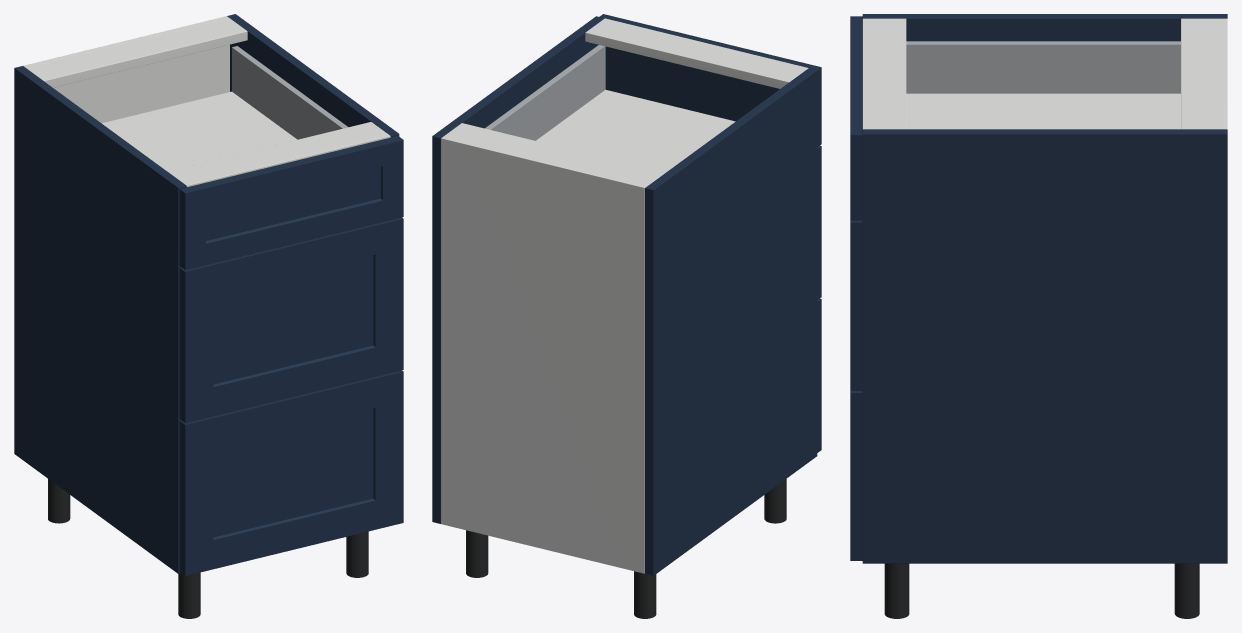
Rendered from oppein-pb-bss-3db18.glb.
3 renders of one model, left to right at view 1: azimuth 30°, elevation 25°; view 2: azimuth 150°, elevation 25°; view 3: azimuth 270°, elevation 25°, orthographic. The views are drawn at different scales.
Visible parts, largest first — view 1: Cabinet side, Drawer front, Drawer front.001, Drawer front.002, Drawer floor.002, Cabinet back, Top support rail, Drawer side.005, Top support rail.001, Cabinet side.001, Adjustable foot.001, Adjustable foot.003 (+1 smaller); view 2: Cabinet back, Cabinet side, Drawer floor.002, Drawer front.002, Cabinet side.001, Top support rail.001, Drawer side.005, Top support rail, Adjustable foot, Adjustable foot.002, Adjustable foot.001, Drawer front (+1 smaller); view 3: Cabinet side.001, Drawer side.004, Drawer floor.002, Cabinet side, Top support rail.001, Top support rail, Drawer front.002, Drawer front.001, Drawer front, Adjustable foot.002, Adjustable foot.003, Cabinet back.
Boxes of the visible parts, <box> form: Cabinet side: <box>14,66,186,573</box>; Drawer front: <box>179,370,403,575</box>; Drawer front.001: <box>179,217,403,423</box>; Drawer front.002: <box>179,136,403,270</box>; Drawer floor.002: <box>102,91,297,171</box>; Cabinet back: <box>23,16,229,123</box>; Top support rail: <box>25,18,247,87</box>; Drawer side.005: <box>232,46,348,139</box>; Top support rail.001: <box>167,122,390,187</box>; Cabinet side.001: <box>227,14,399,137</box>; Adjustable foot.001: <box>178,572,200,618</box>; Adjustable foot.003: <box>346,531,368,577</box>; Cabinet back: <box>441,136,647,573</box>; Cabinet side: <box>645,68,817,575</box>; Drawer floor.002: <box>536,89,735,172</box>; Drawer front.002: <box>599,14,821,146</box>; Cabinet side.001: <box>432,16,604,523</box>; Top support rail.001: <box>585,18,808,88</box>; Drawer side.005: <box>485,45,605,140</box>; Top support rail: <box>444,123,665,185</box>; Adjustable foot: <box>634,571,656,618</box>; Adjustable foot.002: <box>466,530,488,577</box>; Adjustable foot.001: <box>764,479,786,523</box>; Drawer front: <box>817,298,821,452</box>; Cabinet side.001: <box>862,129,1227,563</box>; Drawer side.004: <box>906,41,1180,93</box>; Drawer floor.002: <box>906,93,1180,129</box>; Cabinet side: <box>862,14,1227,41</box>; Top support rail.001: <box>862,18,906,129</box>; Top support rail: <box>1181,18,1220,129</box>; Drawer front.002: <box>850,16,862,220</box>; Drawer front.001: <box>850,220,862,390</box>; Drawer front: <box>850,391,862,560</box>; Adjustable foot.002: <box>1174,563,1199,618</box>; Adjustable foot.003: <box>884,563,909,618</box>; Cabinet back: <box>1220,18,1227,129</box>.
Size of the model in its own units: 0.4572 by 0.8763 by 0.6064.
